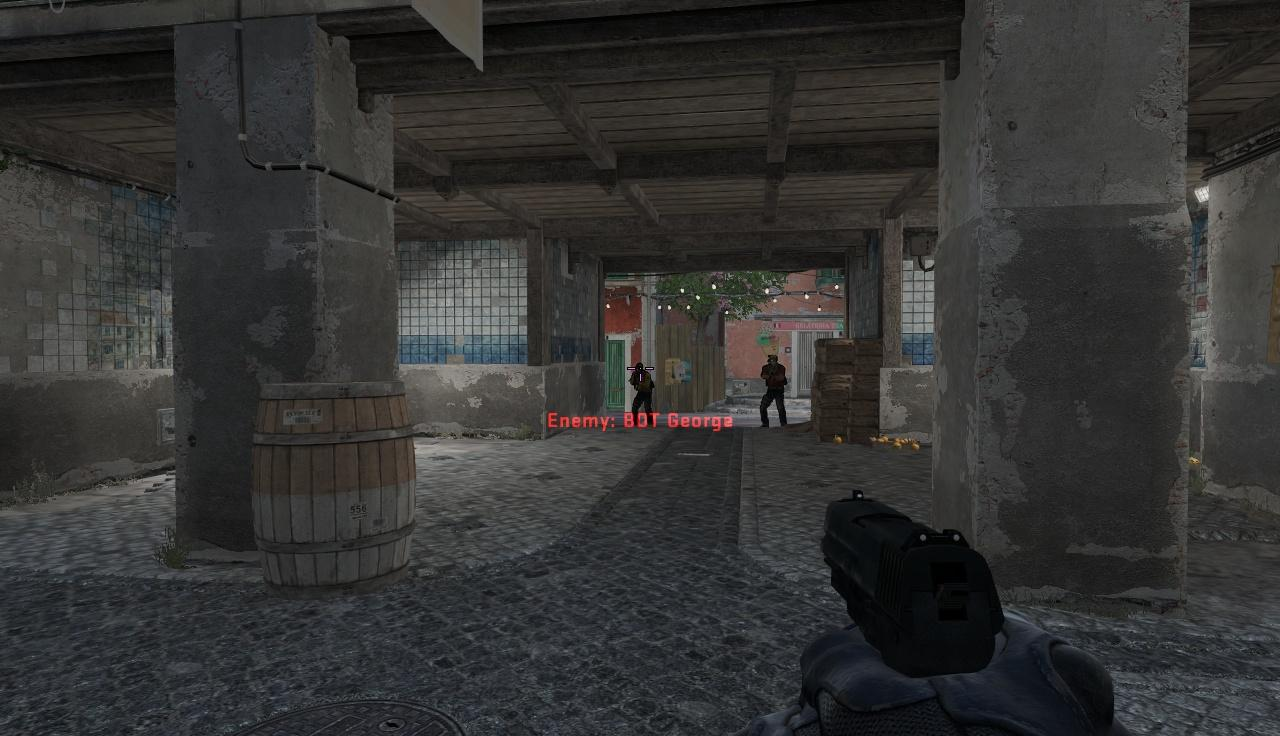ct: (631, 364, 654, 431)
cthead: (636, 362, 645, 373)
pistol: (812, 492, 1100, 736)
tt: (761, 356, 787, 428), (631, 364, 654, 431)
tthead: (766, 355, 777, 368), (636, 362, 645, 373)
